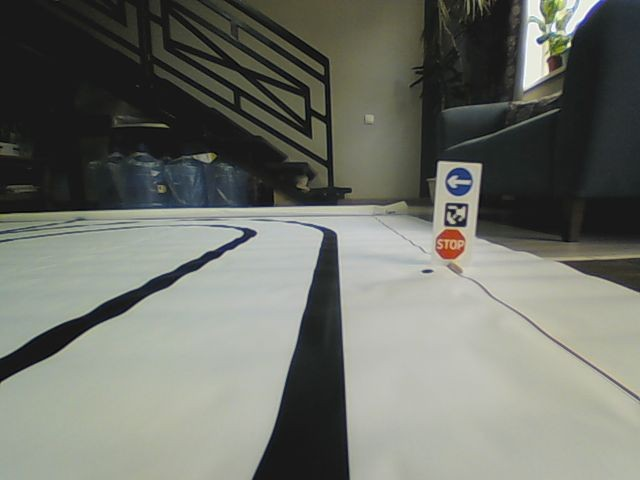Stop: (435, 228, 466, 260)
